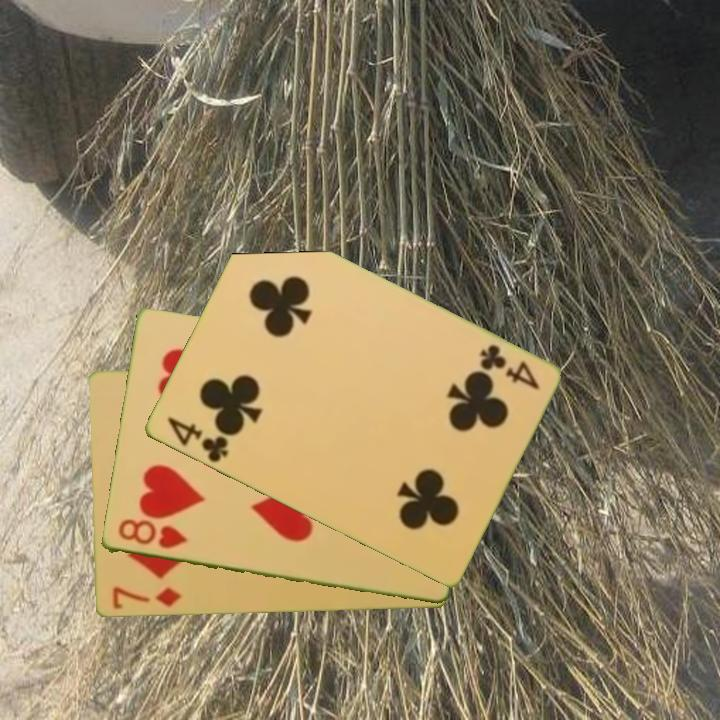4c: (163, 413, 231, 466), (476, 340, 542, 393)
7d: (108, 583, 184, 612)
8h: (114, 516, 189, 552)
